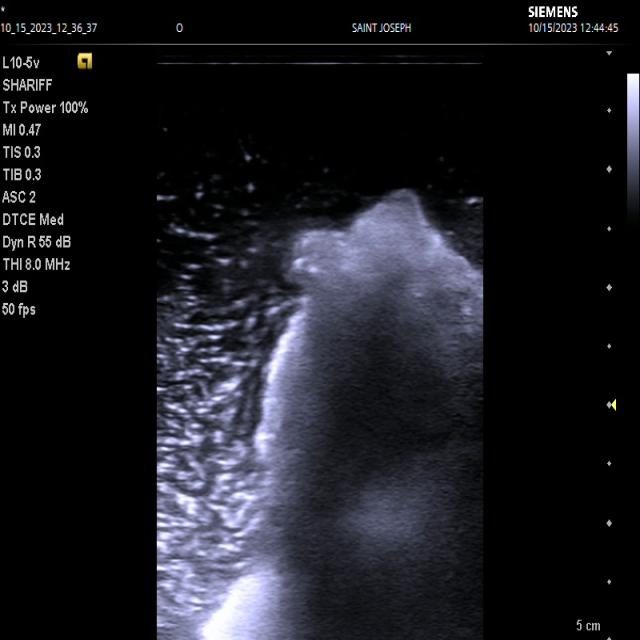tissue: (202, 189, 486, 640)
